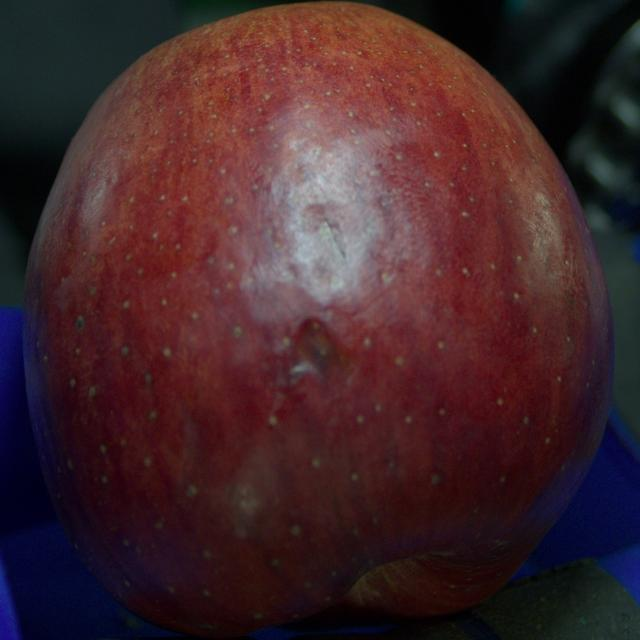apple: (23, 2, 613, 638)
bruise: (289, 318, 349, 379)
